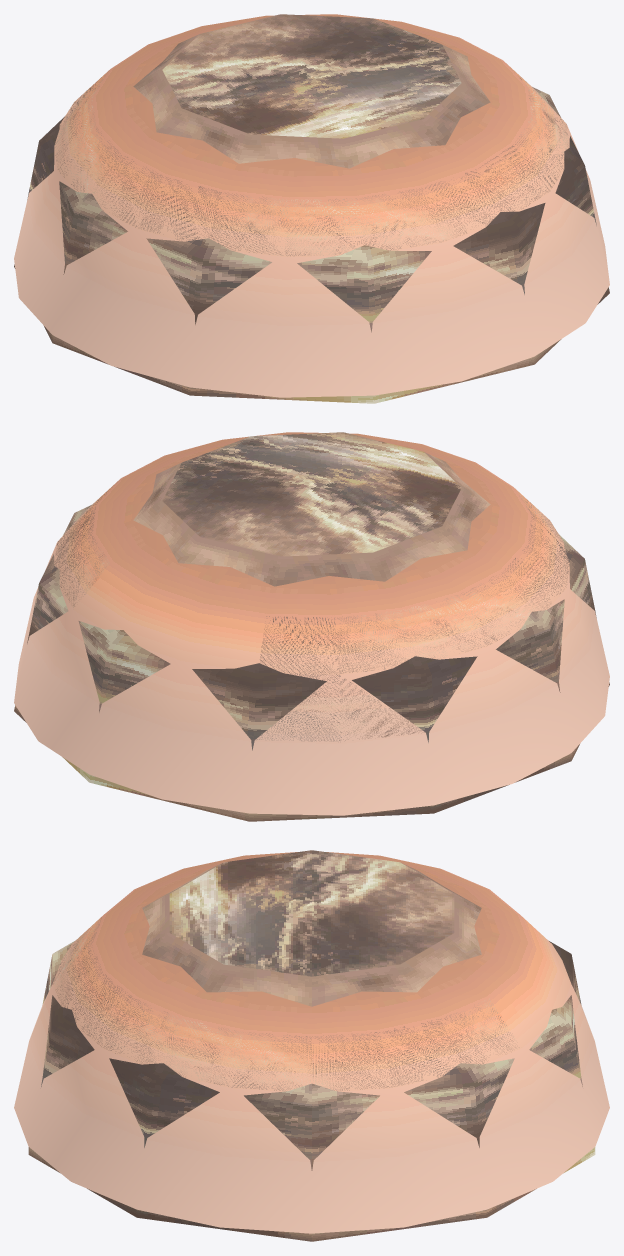
Rendered from stage-maya-sky.glb.
3 views of the same model, one above another, from view 1: azimuth 30°, elevation 25°; view 2: azimuth 150°, elevation 25°; view 3: azimuth 270°, elevation 25° (orthographic).
Parts seen in each view (by area): view 1: sky; view 2: sky; view 3: sky.
Boxes of the visible parts, x1,y1,x2,y2 form: sky: (14, 14, 609, 403); sky: (14, 432, 609, 821); sky: (14, 850, 609, 1241).
Bounding box in the file's own units: 3660 × 1436 × 3660.
3 materials, 3 textured.
